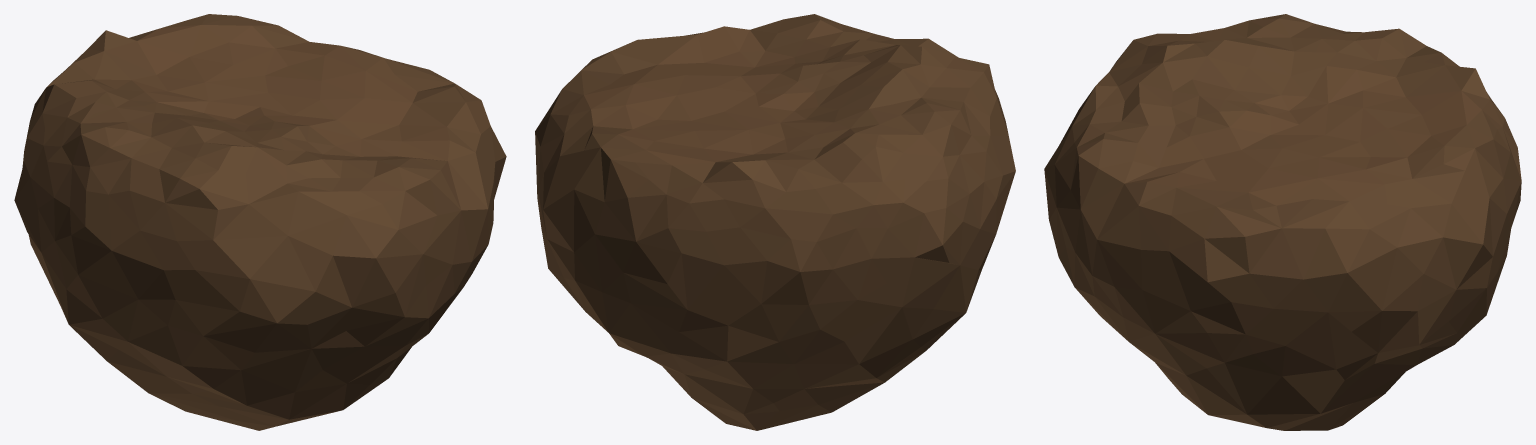
File: gltfcolortest2.gltf
3 views of the same model, side by side, from view 1: azimuth 30°, elevation 25°; view 2: azimuth 150°, elevation 25°; view 3: azimuth 270°, elevation 25° (orthographic). The views are drawn at different scales.
Parts seen in each view (by area): view 1: Icosphere, Icosphere.001; view 2: Icosphere, Icosphere.001; view 3: Icosphere, Icosphere.001.
Boxes of the visible parts, x1,y1,x2,y2 form: Icosphere: (14,14,506,430); Icosphere.001: (132,25,449,160); Icosphere: (535,14,1015,430); Icosphere.001: (584,26,833,165); Icosphere: (1044,14,1521,430); Icosphere.001: (1125,66,1481,205).
Size of the model in its own units: 28.16 by 22.88 by 28.75.
